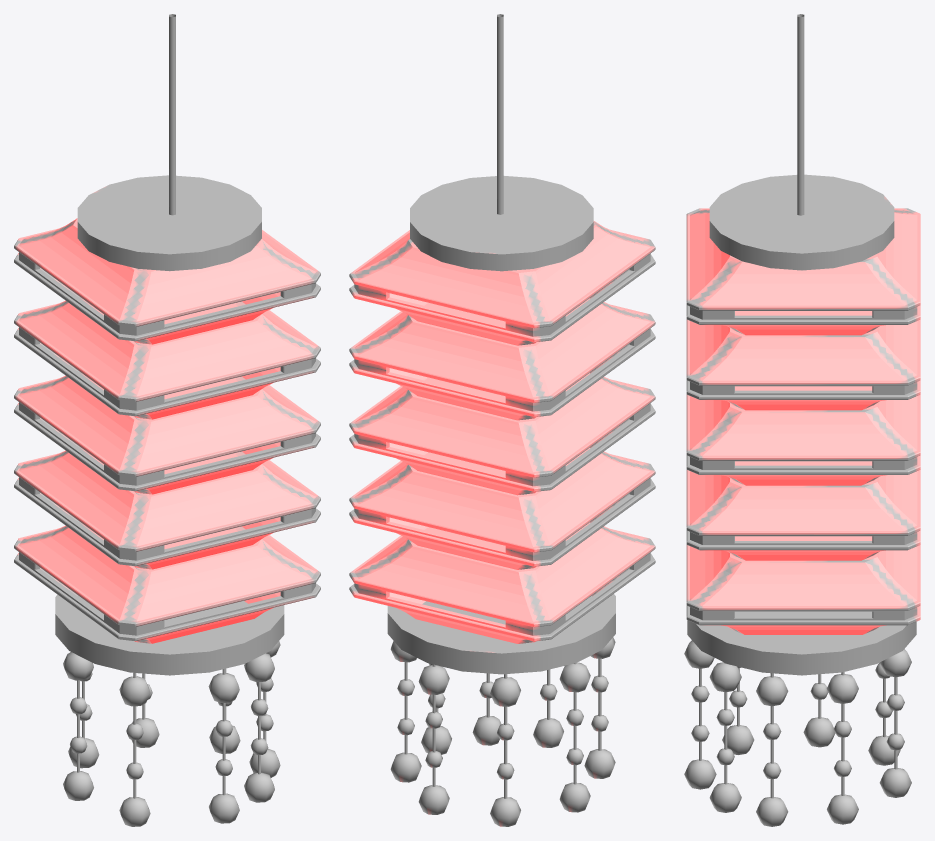
Rendered from SM_LightSet_Baloon.FBX.
3 views of the same model, side by side, from view 1: azimuth 30°, elevation 25°; view 2: azimuth 150°, elevation 25°; view 3: azimuth 270°, elevation 25° (orthographic).
Parts seen in each view (by area): view 1: SM_LightSet_Baloon; view 2: SM_LightSet_Baloon; view 3: SM_LightSet_Baloon.
Boxes of the visible parts, x1,y1,x2,y2 form: SM_LightSet_Baloon: (14, 14, 320, 826); SM_LightSet_Baloon: (349, 14, 655, 826); SM_LightSet_Baloon: (684, 14, 920, 826).
Size of what is drawn, in the model's own units: 45.12 by 45.38 by 164.
